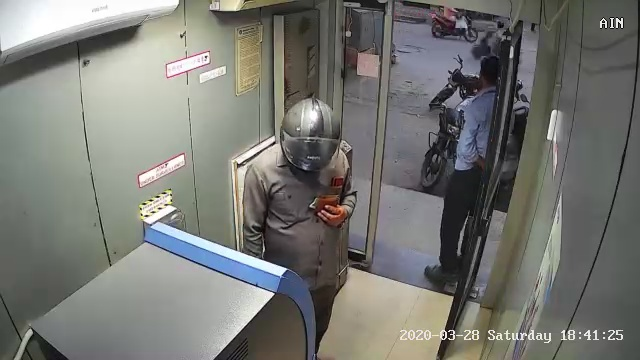helmet: (268, 98, 352, 177)
